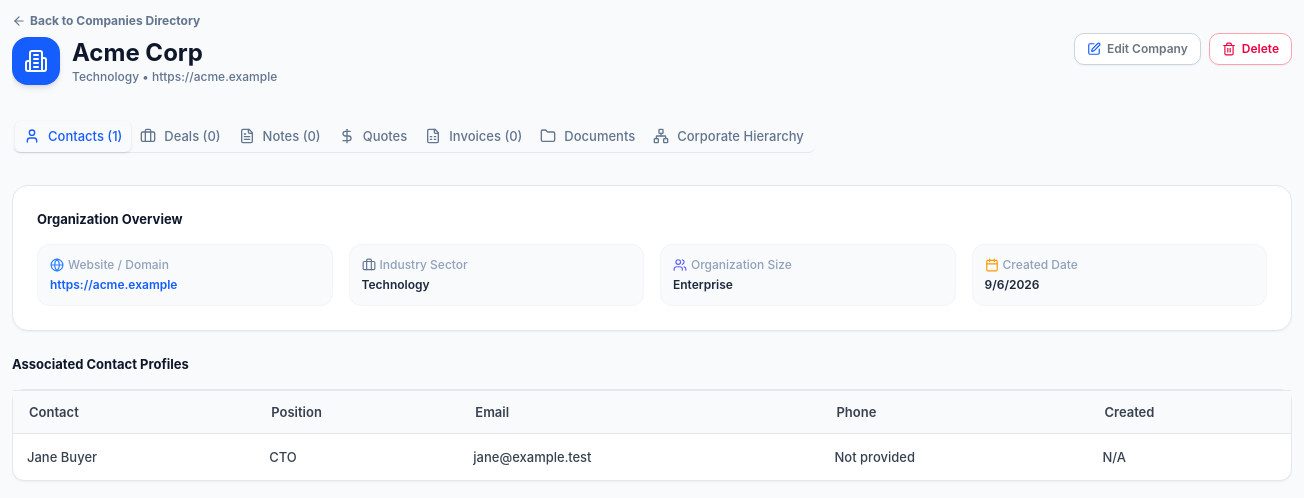
Test case: CompanyDetailsPage relationship tabs › loads the selected tab and renders canonical quote fields
Click the tab "Quotes": [373, 136] box [330,120,416,152]
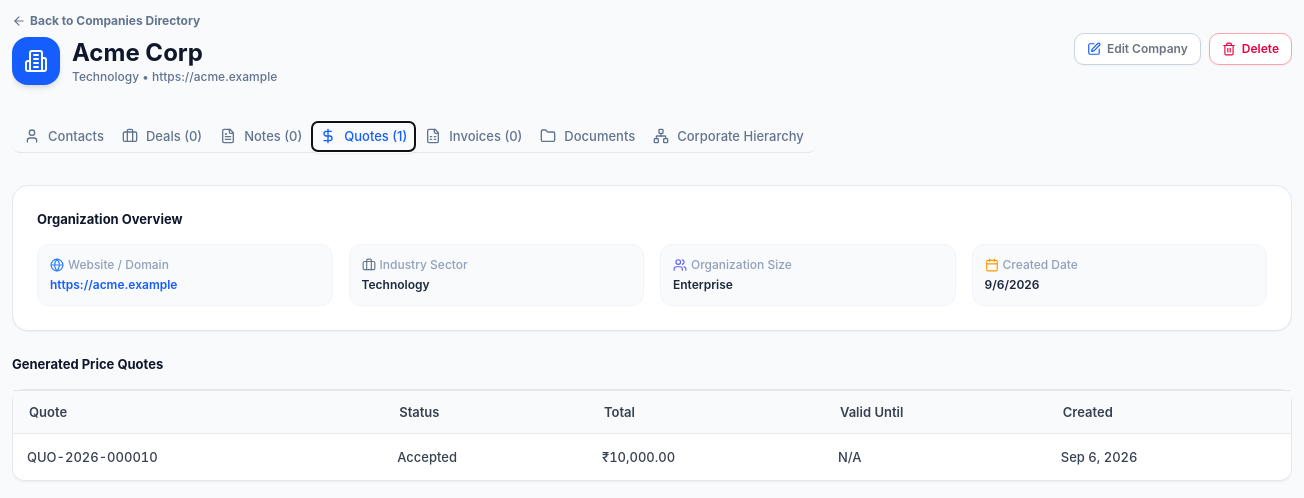
expect the text "QUO-2026-000010" is shown: met, box [13,434,383,480]
